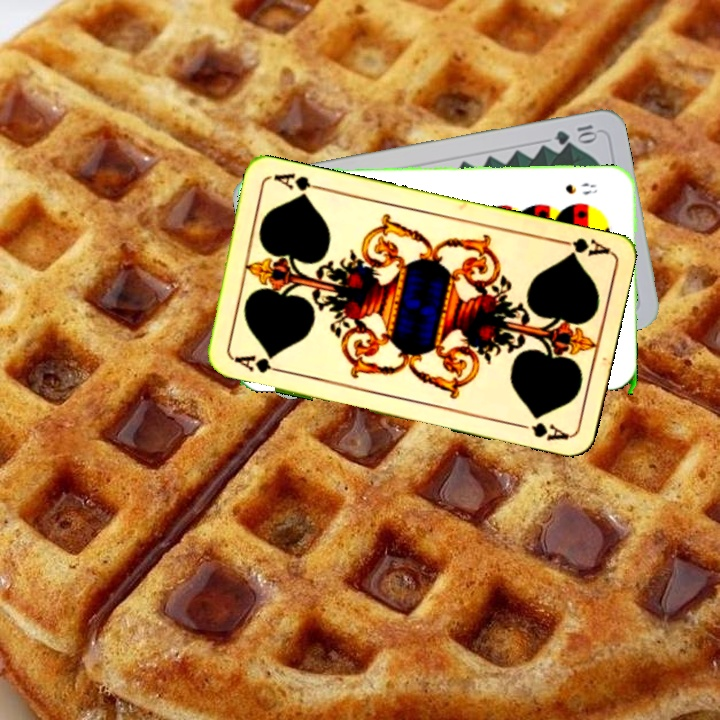G10: (550, 120, 600, 147)
GA: (552, 234, 611, 260), (228, 351, 286, 376)
S8: (561, 179, 599, 198)
